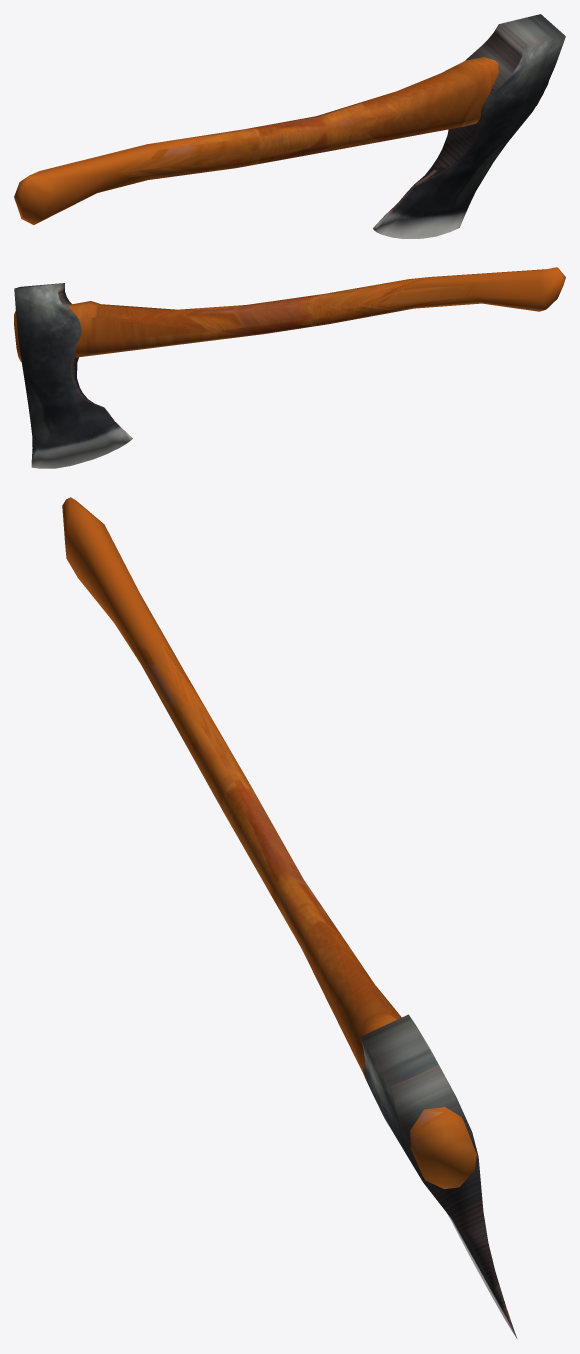
Rendered from axe.fbx.
3 renders of one model, top to bottom at view 1: azimuth 30°, elevation 25°; view 2: azimuth 150°, elevation 25°; view 3: azimuth 270°, elevation 25°, orthographic. The views are drawn at different scales.
Parts seen in each view (by area): view 1: Axe; view 2: Axe; view 3: Axe.
Boxes of the visible parts, bbox=[...] form: Axe: bbox=[14, 14, 565, 238]; Axe: bbox=[14, 267, 565, 468]; Axe: bbox=[62, 497, 517, 1338].
Bounding box in the file's own units: 62.16 × 28.05 × 26.35.
Materials: 1 (1 with a texture image).
